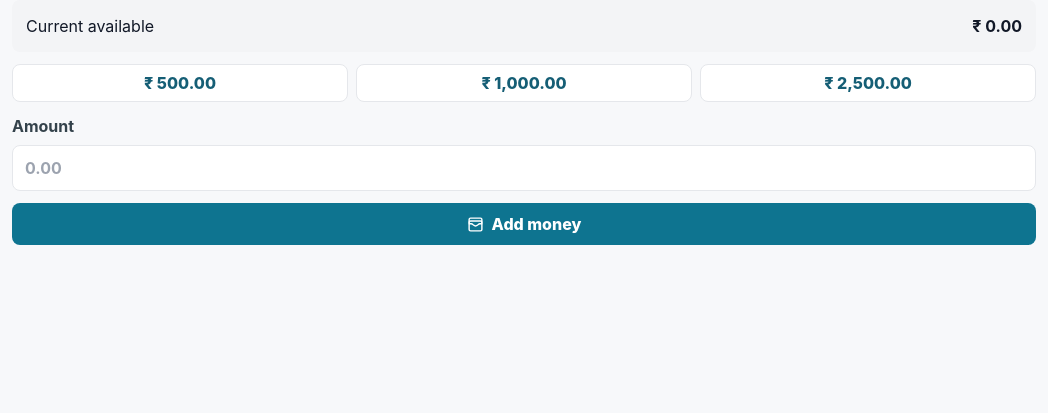
Test: LoadBalanceForm › submits a normalized top-up payload
Type "500" into the field labelled "Amount".
click(524, 168); type("500")  # box [12,145,1036,191]
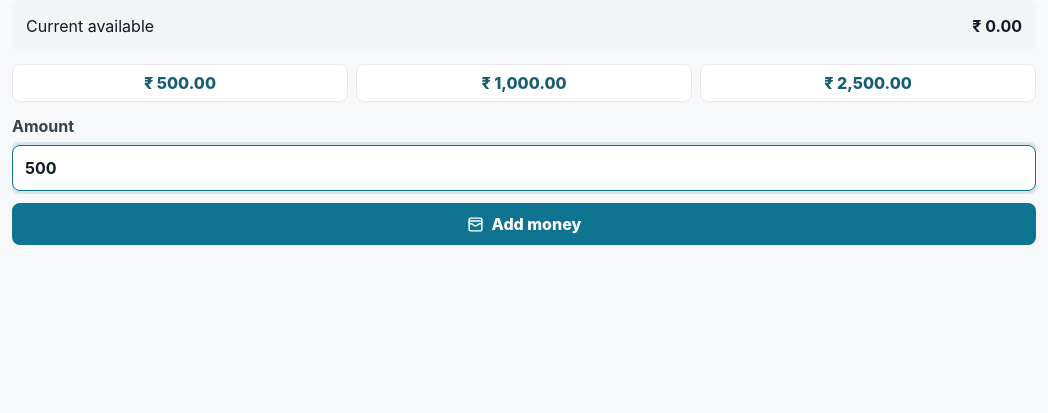
Click the button "Add money".
click(524, 224)  # box [12,203,1036,245]
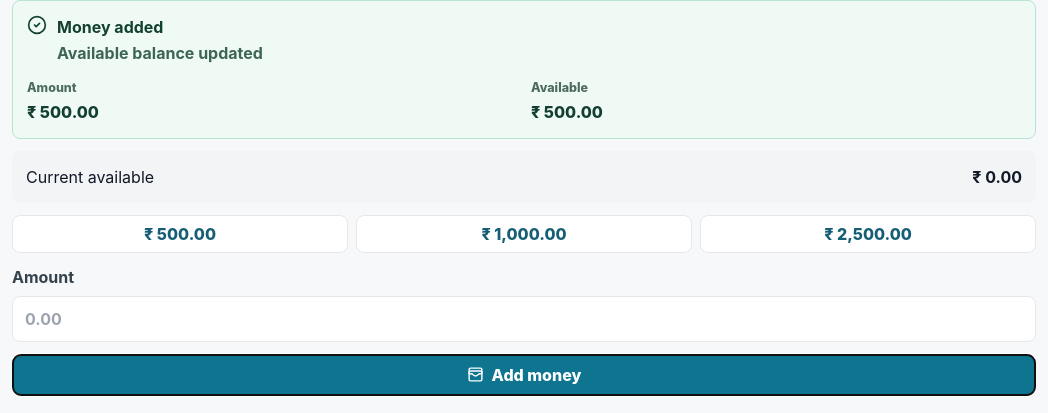
Expected: the text "₹ 500.00" is shown 2 times, [27,102,99,122]; [531,102,603,122]
